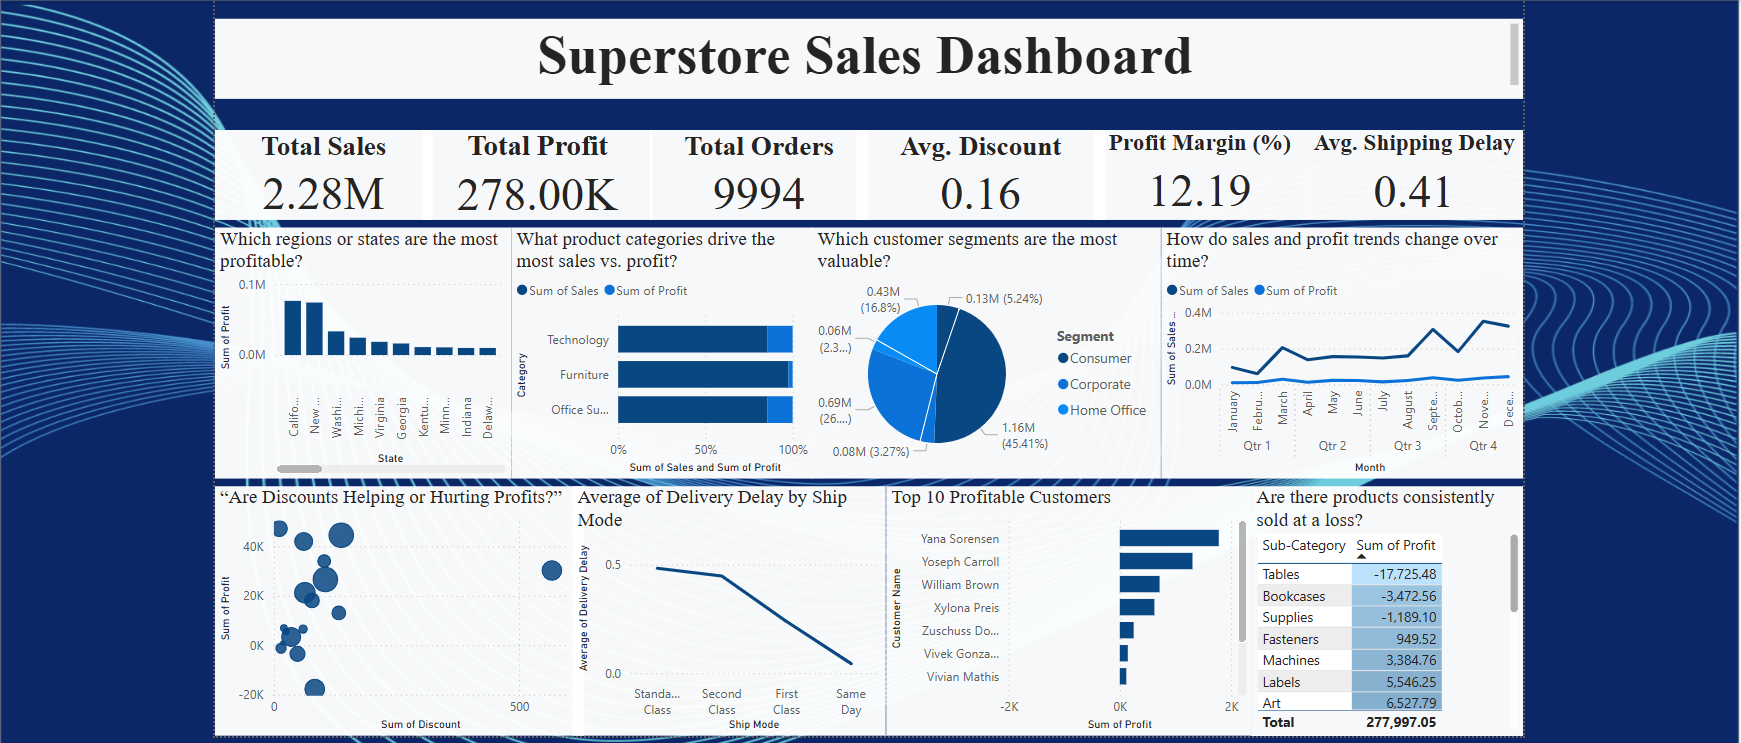

What the dashboard file says about the page in this screenshot:
{"tool":"powerbi","page":{"name":"Page 1","canvas":[1280,720],"ordinal":0},"visuals":[{"type":"columnChart","title":"Which regions or states are the most profitable?","fields":{"Y":["Sample - Superstore.Profit"],"Category":["Sample - Superstore.State"]},"box":[0,222.7,289.4,245.5],"z":0},{"type":"hundredPercentStackedBarChart","title":"What product categories drive the most sales vs. profit?","fields":{"Category":["Sample - Superstore.Category"],"Y":["Sample - Superstore.Sales","Sample - Superstore.Profit"]},"box":[289.4,222.7,295.5,245.5],"z":1},{"type":"lineChart","title":"How do sales and profit trends change over time?","fields":{"Y":["Sample - Superstore.Sales","Sample - Superstore.Profit"],"Category":["Sample - Superstore.Order Date.Variation.Date Hierarchy.Quarter","Sample - Superstore.Order Date.Variation.Date Hierarchy.Month"]},"box":[925.8,222.7,354.5,245.5],"z":2},{"type":"pieChart","title":"Which customer segments are the most valuable?","fields":{"Y":["Sample - Superstore.Profit","Sample - Superstore.Sales"],"Category":["Sample - Superstore.Segment"]},"box":[584.8,222.7,340.9,245.5],"z":3},{"type":"scatterChart","title":"“Are Discounts Helping or Hurting Profits?”","fields":{"X":["Sample - Superstore.Discount"],"Size":["Sample - Superstore.Sales"],"Y":["Sample - Superstore.Profit"],"Category":["Sample - Superstore.Sub-Category"]},"box":[0,475.8,360.6,243.9],"z":4},{"type":"lineChart","fields":{"Category":["Sample - Superstore.Ship Mode"],"Y":["Sample - Superstore.Delivery Delay"]},"box":[350,475.8,306.1,243.9],"z":6},{"type":"tableEx","title":"Are there products consistently sold at a loss?","fields":{"Values":["Sample - Superstore.Sub-Category","Sample - Superstore.Profit"]},"box":[1013.7,475.7,266.6,244.6],"z":7},{"type":"textbox","box":[0,18.2,1280.3,78.8],"z":8},{"type":"barChart","title":"Top 10 Profitable Customers","fields":{"Category":["Sample - Superstore.Customer Name"],"Y":["Sample - Superstore.Profit"]},"box":[656.1,475.8,357.6,243.9],"z":9},{"type":"card","title":"Total Sales","fields":{"Values":["Sample - Superstore.Sales"]},"box":[0,127.2,212.8,88],"z":10},{"type":"card","title":"Total Profit","fields":{"Values":["Sample - Superstore.Profit"]},"box":[203,127.2,225,88],"z":11},{"type":"card","title":"Total Orders","fields":{"Values":["Sample - Superstore.Order ID"]},"box":[425.8,127.3,213.6,87.9],"z":12},{"type":"card","title":"Avg. Discount","fields":{"Values":["Sample - Superstore.Discount"]},"box":[627.3,127.3,243.9,87.9],"z":13},{"type":"card","title":"Avg. Shipping Delay","fields":{"Values":["Sample - Superstore.Delivery Delay"]},"box":[1066.3,127.2,214,88],"z":14},{"type":"card","title":"Profit Margin (%)","fields":{"Values":["Sample - Superstore.Profit Margin (%)"]},"box":[859.1,127.3,207.6,87.9],"z":15}]}

Visuals, with their boxes in screenshot pixels (x1, y1, x2, y2):
"Which regions or states are the most profitable?" columnChart: x1=209 y1=222 x2=503 y2=472
"What product categories drive the most sales vs. profit?" hundredPercentStackedBarChart: x1=503 y1=222 x2=804 y2=472
"How do sales and profit trends change over time?" lineChart: x1=1151 y1=222 x2=1512 y2=472
"Which customer segments are the most valuable?" pieChart: x1=804 y1=222 x2=1151 y2=472
"“Are Discounts Helping or Hurting Profits?”" scatterChart: x1=209 y1=480 x2=576 y2=728
lineChart - Sample - Superstore.Ship Mode x Sample - Superstore.Delivery Delay: x1=565 y1=480 x2=877 y2=728
"Are there products consistently sold at a loss?" tableEx: x1=1241 y1=480 x2=1512 y2=729
textbox: x1=209 y1=14 x2=1512 y2=94
"Top 10 Profitable Customers" barChart: x1=877 y1=480 x2=1241 y2=728
"Total Sales" card: x1=209 y1=125 x2=425 y2=215
"Total Profit" card: x1=415 y1=125 x2=644 y2=215
"Total Orders" card: x1=642 y1=125 x2=860 y2=215
"Avg. Discount" card: x1=847 y1=125 x2=1096 y2=215
"Avg. Shipping Delay" card: x1=1295 y1=125 x2=1512 y2=215
"Profit Margin (%)" card: x1=1083 y1=125 x2=1295 y2=215
